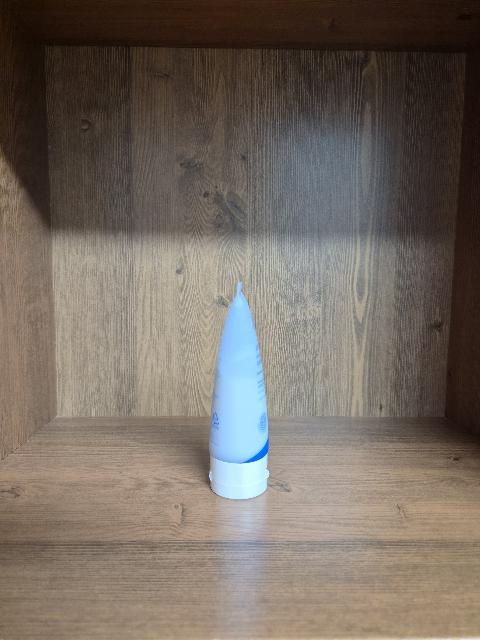handcream: (209, 281, 270, 499)
